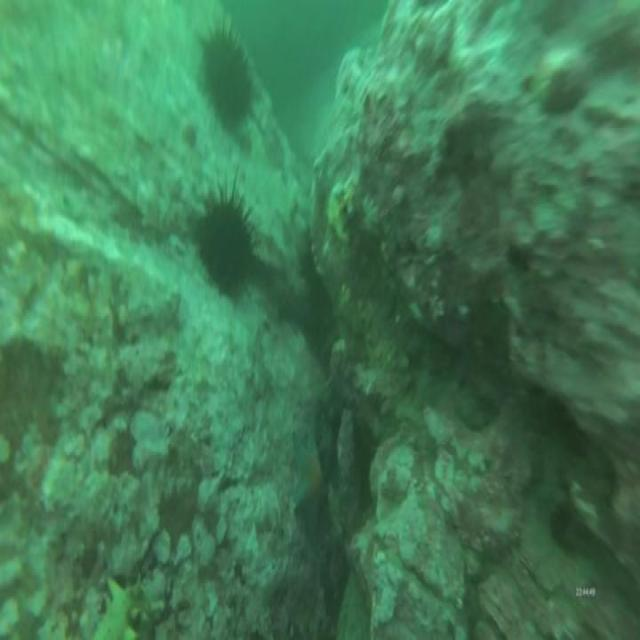echinus: (190, 183, 260, 308), (199, 24, 260, 139)
holothurian: (79, 577, 163, 640)
starfish: (287, 414, 334, 542)
